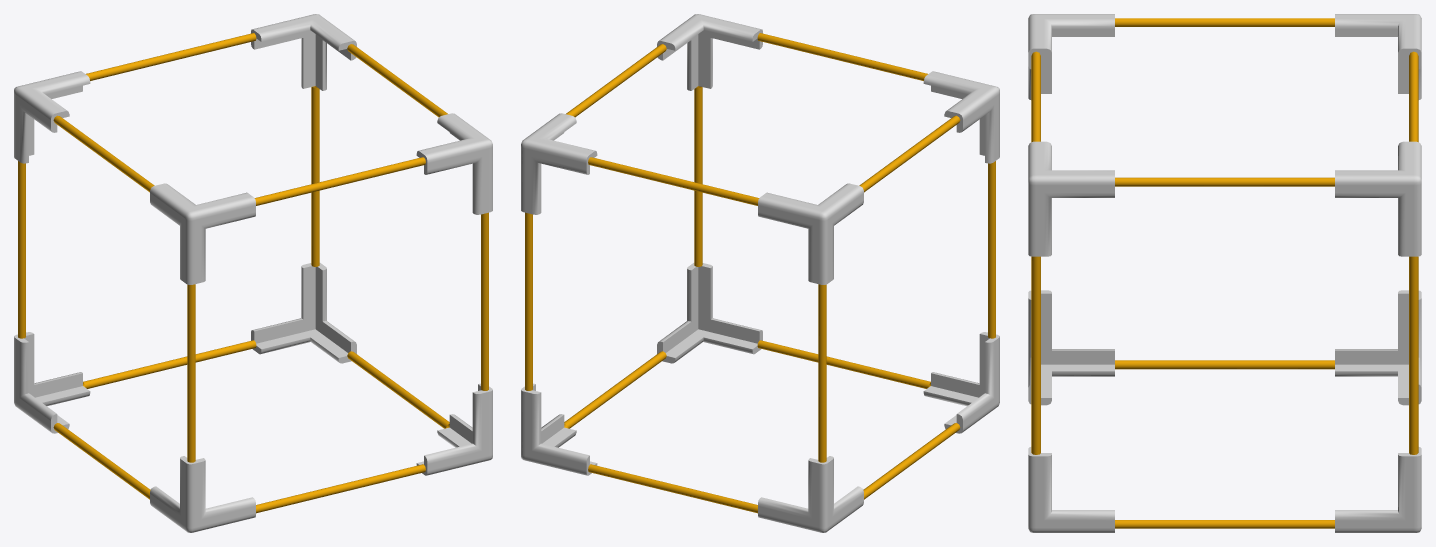
Rendered from toggleBlockOffMVP_Model 1.fbx.
The picture shows the model from 3 angles, left to right: view 1: azimuth 30°, elevation 25°; view 2: azimuth 150°, elevation 25°; view 3: azimuth 270°, elevation 25°; orthographic projection. The views are drawn at different scales.
Parts seen in each view (by area): view 1: cornerPieces, edgePoles; view 2: cornerPieces, edgePoles; view 3: cornerPieces, edgePoles.
Part boxes in pixels (box(x1,y1,x2,y2)): cornerPieces: box(14, 14, 492, 532); edgePoles: box(18, 33, 488, 513); cornerPieces: box(521, 14, 999, 532); edgePoles: box(525, 33, 995, 513); cornerPieces: box(1028, 14, 1421, 532); edgePoles: box(1031, 18, 1418, 528).
Size of the model in its own units: 2.5 by 2.5 by 2.5.
